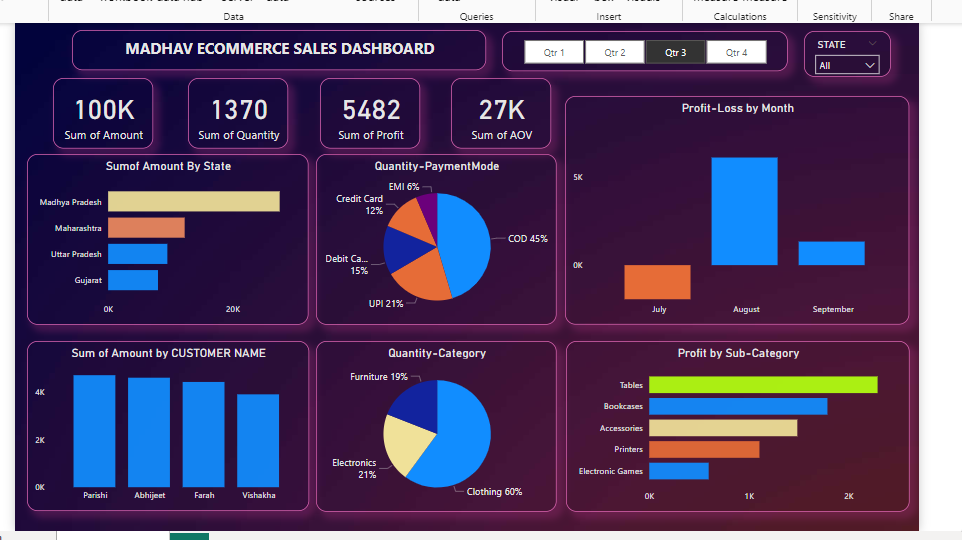

The page's visual inventory and layout, read from the dashboard file:
{"tool":"powerbi","page":{"name":" DASHBOARD","canvas":[1280,720],"ordinal":0},"visuals":[{"type":"textbox","box":[80.8,10.5,587.4,57.1],"z":0},{"type":"columnChart","title":" Profit-Loss by Month","fields":{"Y":["Sum(Details.Profit)"],"Category":["Orders.ORDER DATE.Variation.Date Hierarchy.Month"]},"box":[780.1,104.1,488.3,323.9],"z":1000},{"type":"barChart","title":" Profit by Sub-Category","fields":{"Y":["Sum(Details.Profit)"],"Category":["Details.Sub-Category"]},"box":[781,450.3,487.3,242.2],"z":2000},{"type":"pieChart","title":" Quantity-Category","fields":{"Category":["Details.Category"],"Y":["Sum(Details.Quantity)"]},"box":[426,450.3,341.4,242.2],"z":3000},{"type":"pieChart","title":" Quantity-PaymentMode","fields":{"Category":["Details.PaymentMode"],"Y":["Sum(Details.Quantity)"]},"box":[426,185.8,341.4,242.2],"z":4000},{"type":"card","fields":{"Values":["Sum(Details.Amount)"]},"box":[53.5,77.8,142,100.2],"z":5000},{"type":"card","fields":{"Values":["Sum(Details.Quantity)"]},"box":[245.1,77.8,142,100.2],"z":6000},{"type":"card","fields":{"Values":["Sum(Details.Profit)"]},"box":[432.8,77.8,142,100.2],"z":7000},{"type":"card","fields":{"Values":["Sum(Details.AVERAGE ORDER VALUE)"]},"box":[618.6,77.8,142,100.2],"z":8000},{"type":"barChart","title":" Sumof Amount By State","fields":{"Y":["Sum(Details.Amount)"],"Category":["Orders.STATE"]},"box":[16.5,185.8,398.8,242.2],"z":9000},{"type":"columnChart","fields":{"Category":["Orders.CUSTOMER NAME"],"Y":["Sum(Details.Amount)"]},"box":[16.5,451.3,399.8,241.2],"z":10000},{"type":"slicer","fields":{"Values":["Orders.ORDER DATE.Variation.Date Hierarchy.Quarter"]},"box":[689.6,10.7,404.6,57.4],"z":11000},{"type":"slicer","fields":{"Values":["Orders.STATE"]},"box":[1117.6,10.7,122.6,65.2],"z":12000}]}

Visuals, with their boxes on the page's 1280x720 design canvas (x1, y1, x2, y2). These are canvas units, not pixel positions in the 962x540 screenshot, which may show the page scaled, cropped or inside an application window:
textbox: {"left": 81, "top": 10, "right": 668, "bottom": 68}
" Profit-Loss by Month" columnChart: {"left": 780, "top": 104, "right": 1268, "bottom": 428}
" Profit by Sub-Category" barChart: {"left": 781, "top": 450, "right": 1268, "bottom": 692}
" Quantity-Category" pieChart: {"left": 426, "top": 450, "right": 767, "bottom": 692}
" Quantity-PaymentMode" pieChart: {"left": 426, "top": 186, "right": 767, "bottom": 428}
card - Sum(Details.Amount): {"left": 54, "top": 78, "right": 196, "bottom": 178}
card - Sum(Details.Quantity): {"left": 245, "top": 78, "right": 387, "bottom": 178}
card - Sum(Details.Profit): {"left": 433, "top": 78, "right": 575, "bottom": 178}
card - Sum(Details.AVERAGE ORDER VALUE): {"left": 619, "top": 78, "right": 761, "bottom": 178}
" Sumof Amount By State" barChart: {"left": 16, "top": 186, "right": 415, "bottom": 428}
columnChart - Orders.CUSTOMER NAME x Sum(Details.Amount): {"left": 16, "top": 451, "right": 416, "bottom": 692}
slicer - Orders.ORDER DATE.Variation.Date Hierarchy.Quarter: {"left": 690, "top": 11, "right": 1094, "bottom": 68}
slicer - Orders.STATE: {"left": 1118, "top": 11, "right": 1240, "bottom": 76}
